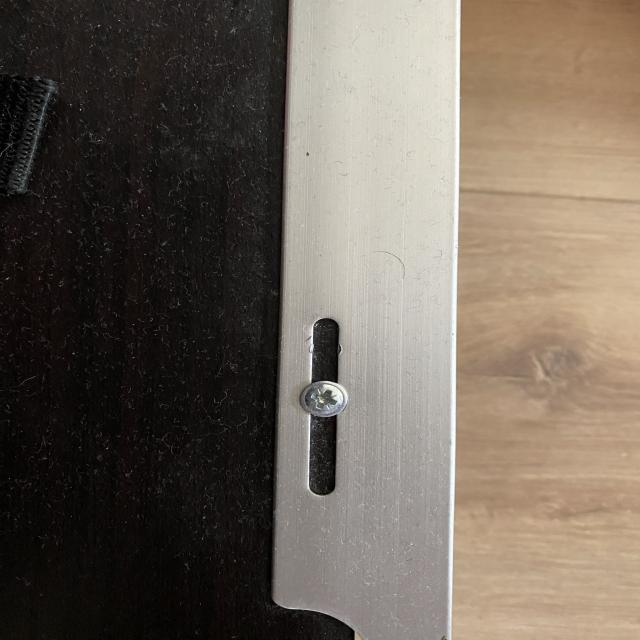PhillipsScrewHead: (298, 380, 350, 418)
